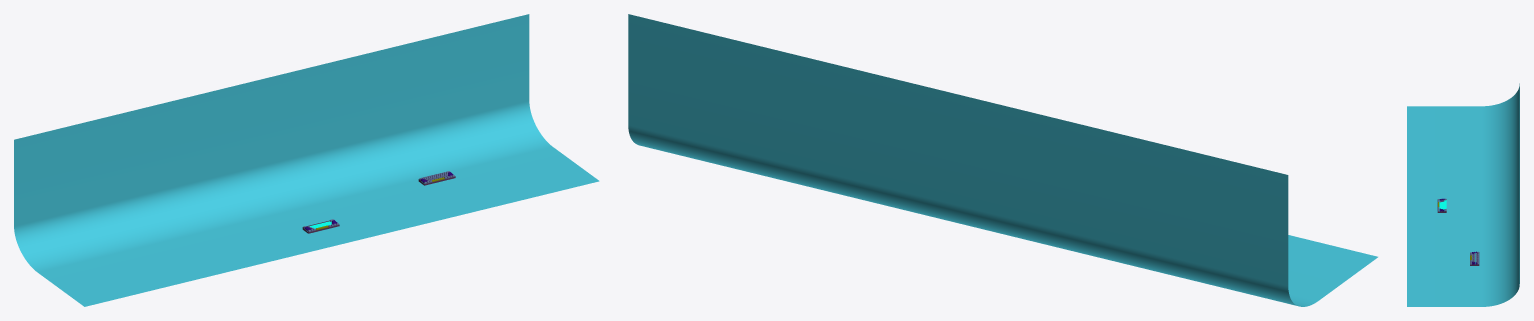
Rendered from keyboard.glb.
The picture shows the model from 3 angles, left to right: view 1: azimuth 30°, elevation 25°; view 2: azimuth 150°, elevation 25°; view 3: azimuth 270°, elevation 25°; orthographic projection. The views are drawn at different scales.
Visible parts, largest first — view 1: Plane; view 2: Plane; view 3: Plane, keyboard object.
Part boxes in pixels (x1=…): Plane: x1=14, y1=14, x2=599, y2=306; Plane: x1=628, y1=14, x2=1377, y2=306; Plane: x1=1407, y1=83, x2=1519, y2=306; keyboard object: x1=1470, y1=251, x2=1479, y2=265.
Bounding box in the file's own units: 125 × 26.71 × 29.54.
